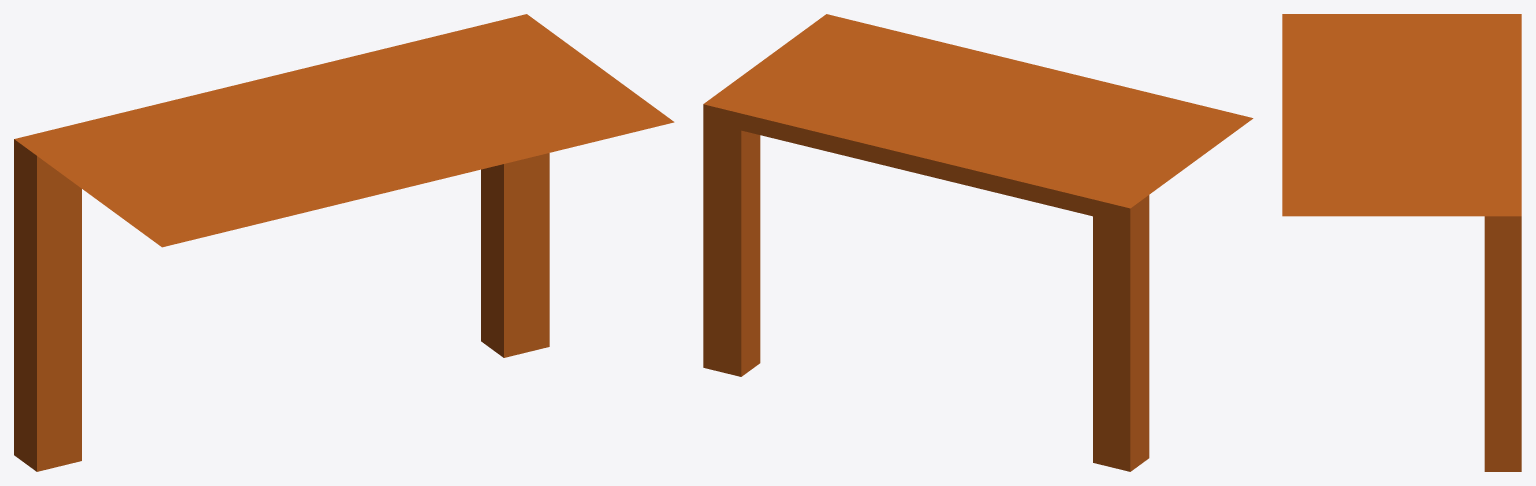
Rendered from masasag.fbx.
The picture shows the model from 3 angles, left to right: view 1: azimuth 30°, elevation 25°; view 2: azimuth 150°, elevation 25°; view 3: azimuth 270°, elevation 25°; orthographic projection. The views are drawn at different scales.
Visible parts, largest first — view 1: Plane; view 2: Plane; view 3: Plane.
Part boxes in pixels (x1=…): Plane: x1=14, y1=14, x2=674, y2=471; Plane: x1=703, y1=14, x2=1253, y2=471; Plane: x1=1282, y1=14, x2=1521, y2=471.
Size of the model in its own units: 636 by 375 by 318.
